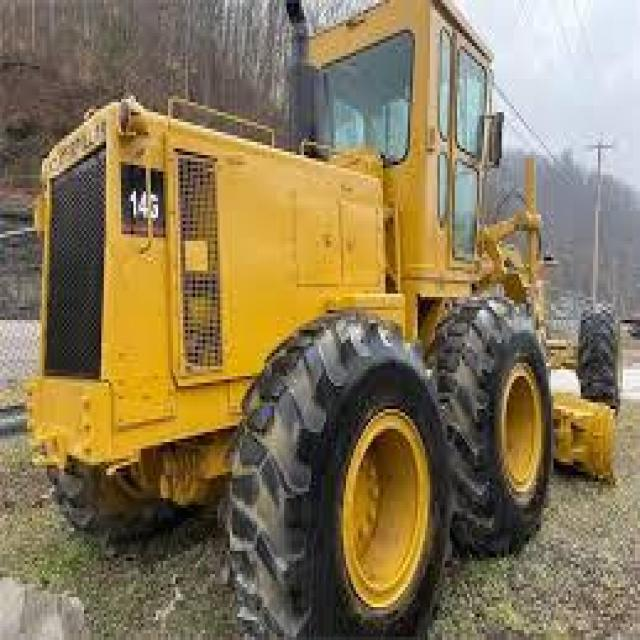Grader: (20, 7, 635, 630)
